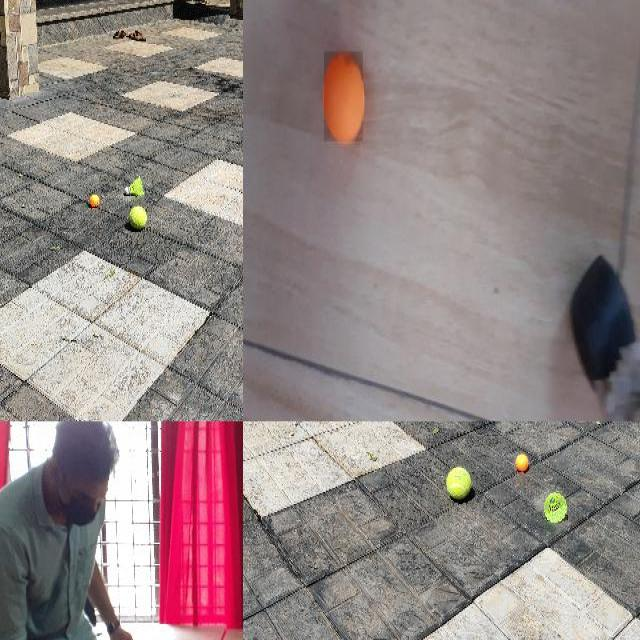ping-pong-ball: (324, 52, 364, 144), (516, 454, 528, 469), (89, 192, 99, 205)
